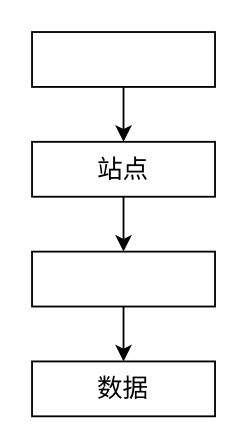
The diagram is 247 pixels wide and 448 high, and some of its shapes have lost their labels. The shapes that lost their labels are listed below. From the top down, each one's centre as x and y in pixels, then its label:
the point at 122,58: 浏览器
the point at 122,278: 服务
